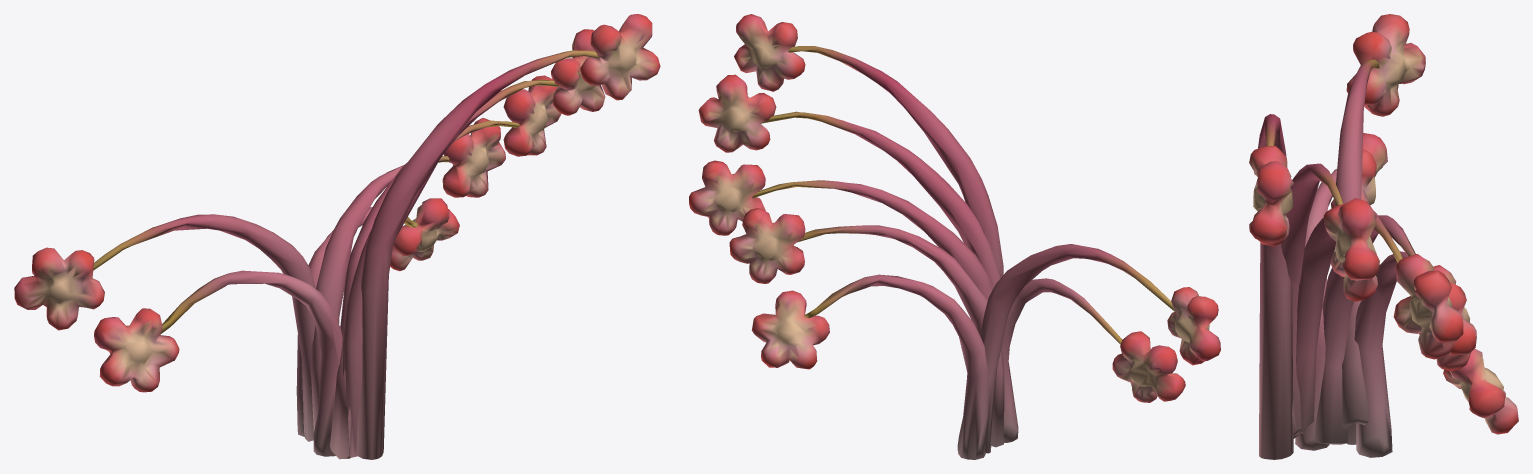
3 views of the same model, side by side, from view 1: azimuth 30°, elevation 25°; view 2: azimuth 150°, elevation 25°; view 3: azimuth 270°, elevation 25° (orthographic). The views are drawn at different scales.
Parts seen in each view (by area): view 1: LOD 1_4441588532611241159_8b1ec056629fd29428edb46917b1fdee; view 2: LOD 1_4441588532611241159_8b1ec056629fd29428edb46917b1fdee; view 3: LOD 1_4441588532611241159_8b1ec056629fd29428edb46917b1fdee.
Boxes of the visible parts, x1,y1,x2,y2 form: LOD 1_4441588532611241159_8b1ec056629fd29428edb46917b1fdee: [14, 14, 660, 459]; LOD 1_4441588532611241159_8b1ec056629fd29428edb46917b1fdee: [689, 14, 1220, 459]; LOD 1_4441588532611241159_8b1ec056629fd29428edb46917b1fdee: [1249, 14, 1518, 459].
Size of the model in its own units: 13.86 by 8.6 by 4.65.
